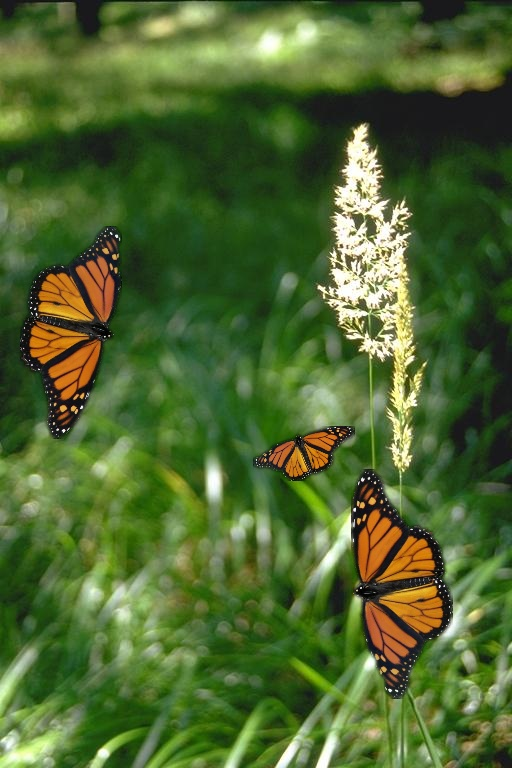danaus_plexippus: (351, 469, 453, 699), (20, 226, 122, 439), (253, 426, 355, 481)
